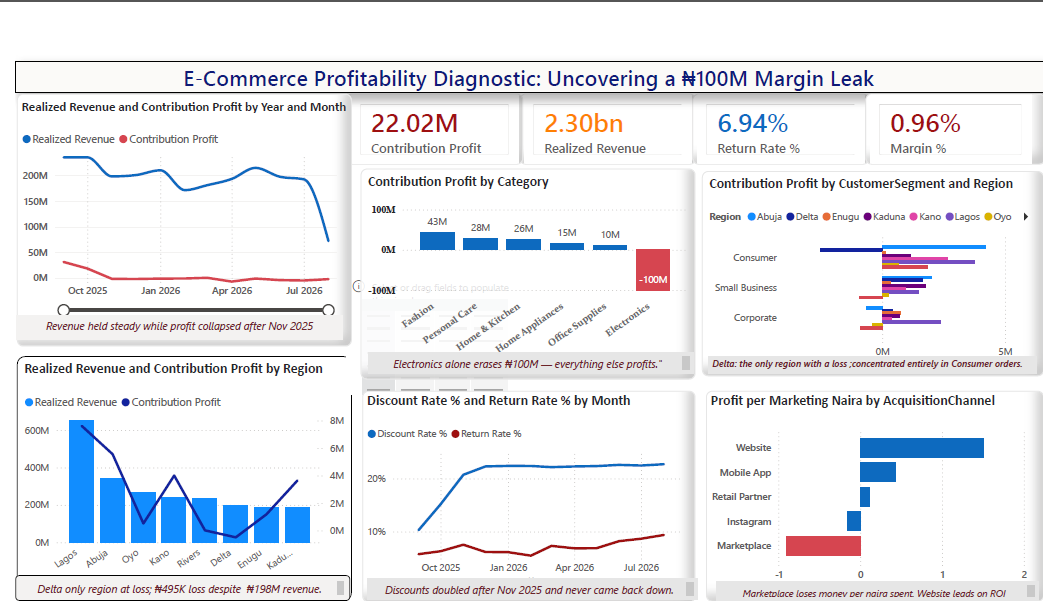

This screenshot's page, from the dashboard's own definition file:
{"tool":"powerbi","page":{"name":"Page 1","canvas":[1280,720],"ordinal":0},"visuals":[{"type":"cardVisual","fields":{"Data":["Measures = {BLANK()}.Realized Revenue"]},"box":[626,90,220,88],"z":0},{"type":"cardVisual","fields":{"Data":["Measures = {BLANK()}.Contribution Profit"]},"box":[411,90,220,88],"z":1000},{"type":"cardVisual","fields":{"Data":["Measures = {BLANK()}.Return Rate %"]},"box":[841,90,220,88],"z":2000},{"type":"textbox","box":[0,48.7,1280,40.3],"z":3000},{"type":"lineChart","fields":{"Y":["Measures = {BLANK()}.Realized Revenue","Measures = {BLANK()}.Contribution Profit"],"Category":["DATE TABLE.MonthKey"]},"box":[2,90,416,314],"z":3000,"group":"g6"},{"type":"cardVisual","fields":{"Data":["Measures = {BLANK()}.Margin %"]},"box":[1056,90,224,88],"z":4000},{"type":"lineChart","title":"Discount Rate % and Return Rate % by Month","fields":{"Category":["DATE TABLE.MonthKey"],"Y":["Measures = {BLANK()}.Discount Rate %","Measures = {BLANK()}.Return Rate %"]},"box":[430.7,457.3,416,262.7],"z":4000,"group":"g4"},{"type":"columnChart","fields":{"Category":["fact_orders.Category"],"Y":["Measures = {BLANK()}.Contribution Profit"]},"box":[432,182.3,416,262],"z":5000,"group":"g3"},{"type":"group","id":"g1","title":"Group 1","box":[0,416,418,304],"z":5000},{"type":"group","id":"g2","title":"Group 2","box":[861,182.3,416,262],"z":6000},{"type":"barChart","fields":{"Category":["fact_orders.AcquisitionChannel"],"Y":["Measures = {BLANK()}.Profit per Marketing Naira"]},"box":[859,458,416,262],"z":6000,"group":"g5"},{"type":"group","id":"g3","title":"Group 3","box":[432,182.3,416,262],"z":7000},{"type":"hundredPercentStackedBarChart","fields":{"Category":["customer_rfm.Segment"],"Y":["Sum(customer_rfm.Monetary)"]},"box":[861,182.3,416,262],"z":7000,"group":"g2"},{"type":"group","id":"g4","title":"Group 4","box":[430.7,457.3,416,262.7],"z":8000},{"type":"group","id":"g5","title":"Group 5","box":[859,458,416,262],"z":9000},{"type":"group","id":"g6","title":"Group 7","box":[2,90,416,314],"z":10000},{"type":"lineClusteredColumnComboChart","fields":{"Y":["Measures = {BLANK()}.Realized Revenue"],"Category":["fact_orders.Region"],"Y2":["Measures = {BLANK()}.Contribution Profit"]},"box":[2,416,416,304],"z":10000,"group":"g7"},{"type":"textbox","box":[2,365.4,404,29.7],"z":11000,"group":"g6"},{"type":"textbox","box":[0,688,416,32],"z":11000,"group":"g7"},{"type":"textbox","box":[431.5,684.3,410.9,28.2],"z":12000,"group":"g4"},{"type":"textbox","box":[434.5,409.8,410.9,31],"z":12001,"group":"g3"},{"type":"textbox","box":[871.5,694.9,396.4,23.5],"z":12002,"group":"g5"},{"type":"textbox","box":[861,416.7,407,24.6],"z":12003,"group":"g2"},{"type":"group","id":"g7","title":"Group 6","box":[0,416,418,304],"z":12008,"group":"g1"}]}

Visuals, with their boxes in screenshot pixels (x1, y1, x2, y2):
cardVisual - Measures = {BLANK()}.Realized Revenue: bbox=(514, 91, 691, 162)
cardVisual - Measures = {BLANK()}.Contribution Profit: bbox=(341, 91, 518, 162)
cardVisual - Measures = {BLANK()}.Return Rate %: bbox=(687, 91, 863, 162)
textbox: bbox=(11, 58, 1039, 91)
lineChart - Measures = {BLANK()}.Realized Revenue x Measures = {BLANK()}.Contribution Profit: bbox=(12, 91, 347, 344)
cardVisual - Measures = {BLANK()}.Margin %: bbox=(859, 91, 1039, 162)
"Discount Rate % and Return Rate % by Month" lineChart: bbox=(357, 386, 691, 598)
columnChart - fact_orders.Category x Measures = {BLANK()}.Contribution Profit: bbox=(358, 166, 692, 376)
"Group 1" group: bbox=(11, 353, 347, 598)
"Group 2" group: bbox=(703, 166, 1037, 376)
barChart - fact_orders.AcquisitionChannel x Measures = {BLANK()}.Profit per Marketing Naira: bbox=(701, 387, 1035, 598)
"Group 3" group: bbox=(358, 166, 692, 376)
hundredPercentStackedBarChart - customer_rfm.Segment x Sum(customer_rfm.Monetary): bbox=(703, 166, 1037, 376)
"Group 4" group: bbox=(357, 386, 691, 598)
"Group 5" group: bbox=(701, 387, 1035, 598)
"Group 7" group: bbox=(12, 91, 347, 344)
lineClusteredColumnComboChart - Measures = {BLANK()}.Realized Revenue x fact_orders.Region: bbox=(12, 353, 347, 598)
textbox: bbox=(12, 313, 337, 337)
textbox: bbox=(11, 572, 345, 598)
textbox: bbox=(358, 569, 688, 592)
textbox: bbox=(360, 348, 690, 373)
textbox: bbox=(711, 577, 1030, 596)
textbox: bbox=(703, 354, 1030, 374)
"Group 6" group: bbox=(11, 353, 347, 598)
